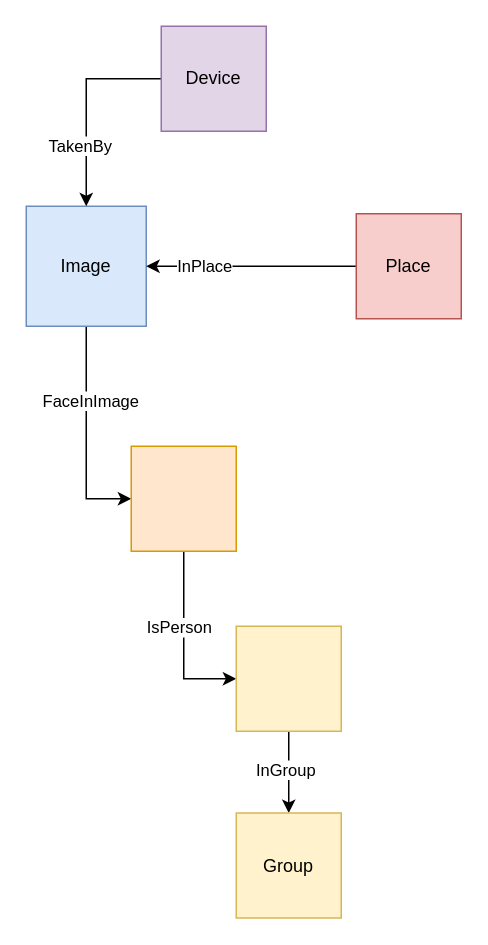
The diagram is 488 pixels wide and 945 high, and some of its shapes have lost their labels. Here are the shapes that lost their labels. From the top down, the centre of each, then its label:
At point (183, 498): "Face".
At point (288, 678): "Person".
